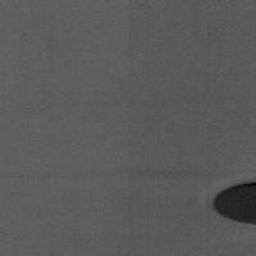Punching: (214, 182, 256, 224)
